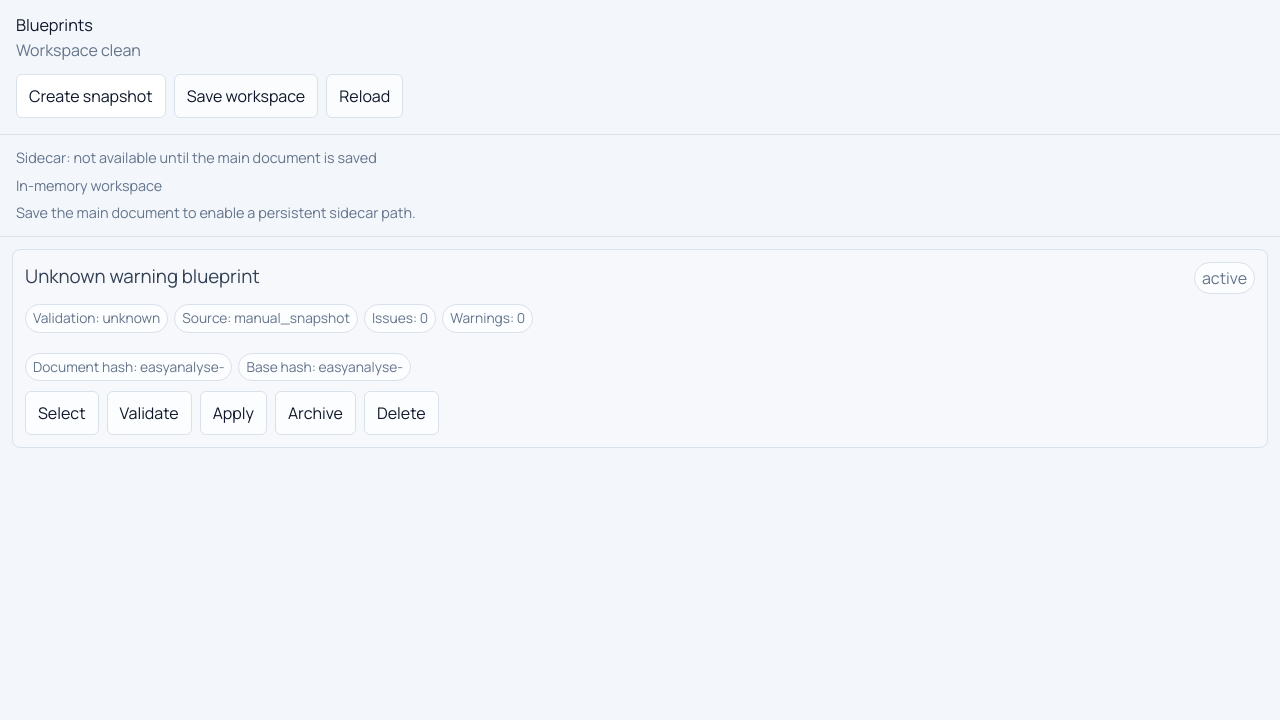
Test: BlueprintsPanel › opens unknown blueprint confirmation and shows a strong risk warning
The image size is (1280, 720).
Click the button "Apply": (233, 413) [200,391,267,435]
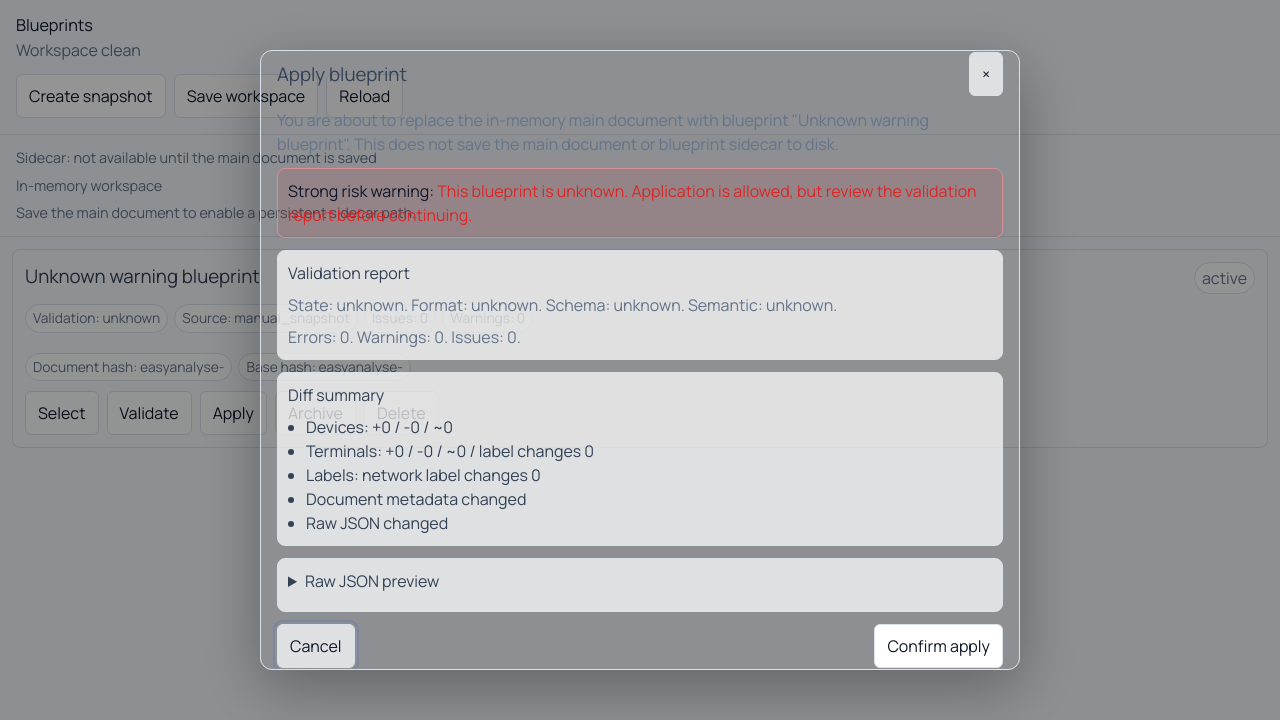
Now the dialog shows "Apply blueprint", box [277,61,407,87]
Now the dialog shows "State: unknown", box [288,294,837,316]
Now the dialog shows "Strong risk warning", box [288,180,434,202]
